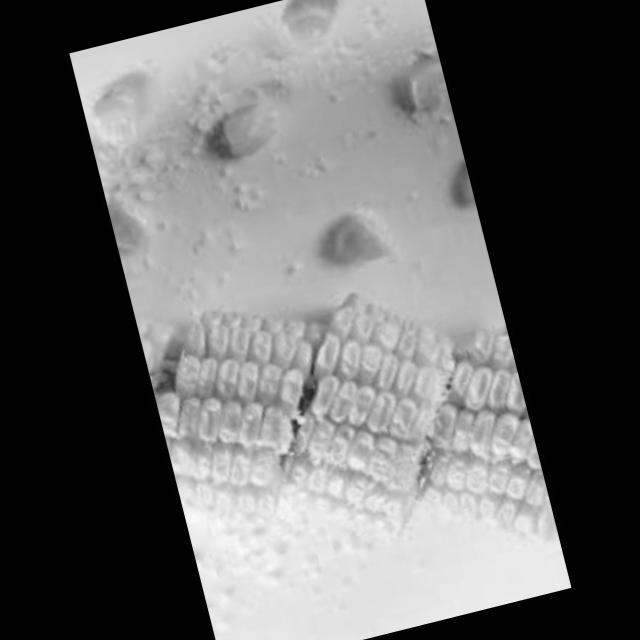cereal: (232, 262, 500, 574), (136, 280, 380, 548), (378, 299, 564, 593), (198, 82, 306, 184), (75, 68, 164, 165), (302, 198, 402, 284), (384, 38, 455, 138), (103, 183, 168, 276), (259, 0, 346, 69), (430, 168, 476, 219)
